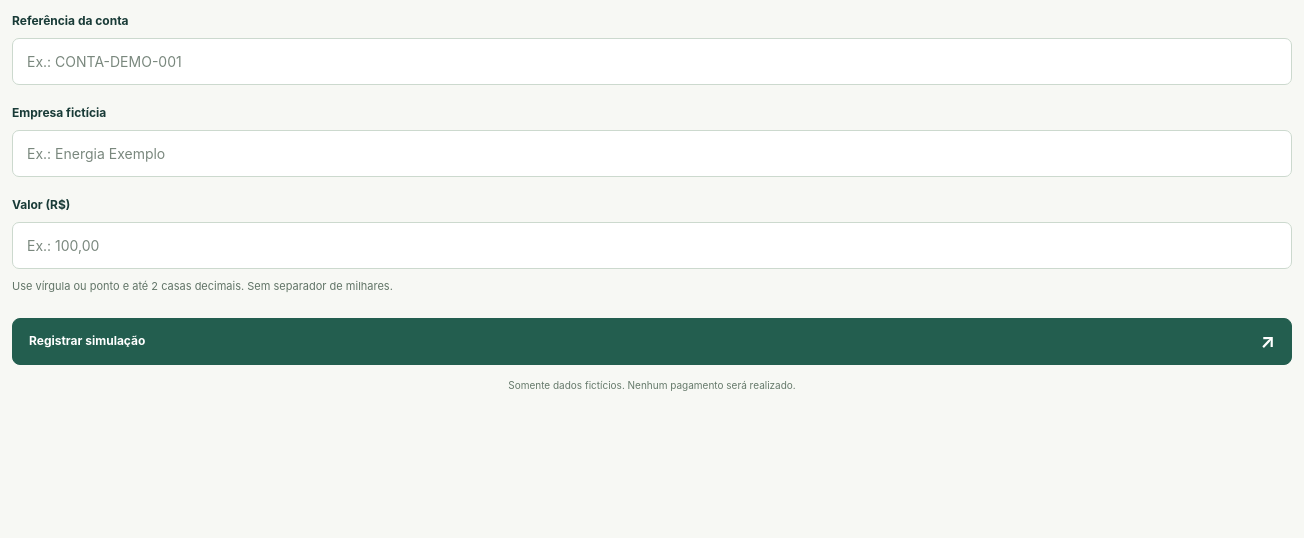
Componente: FormularioPagamento › indica os campos obrigatórios e foca a referência ao enviar o formulário vazio
This screenshot has width=1304, height=538.
Click the button "Registrar simulação ↗": (87, 341) top-left (12, 318), bottom-right (1292, 365)
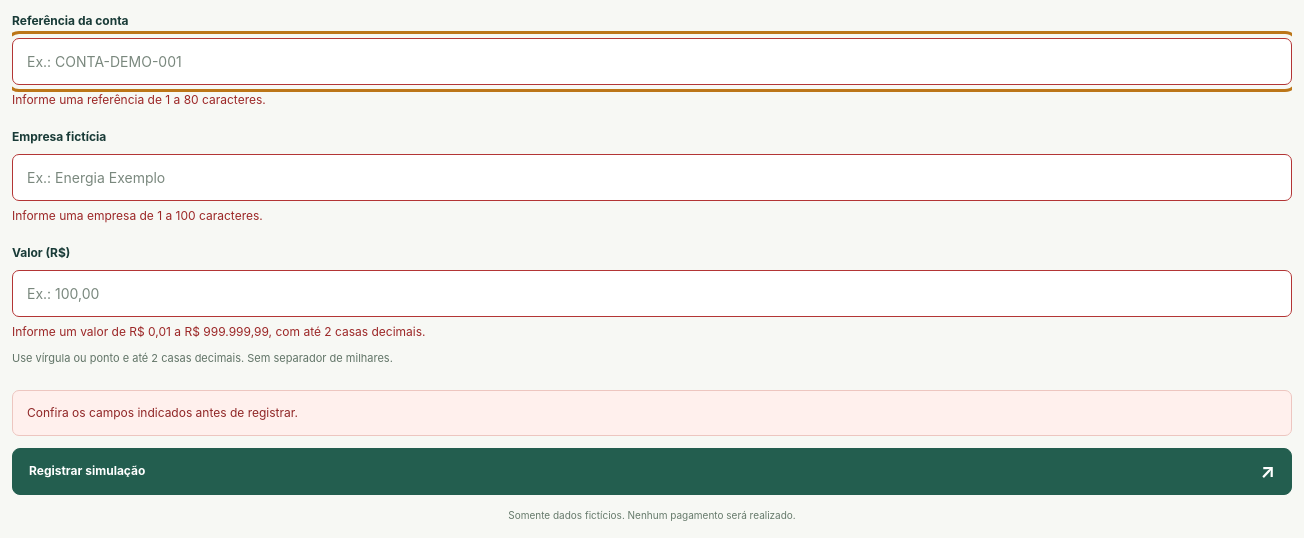
Expected: the message "Confira os campos indicados antes de registrar." is shown, top-left (12, 390), bottom-right (1292, 436)
